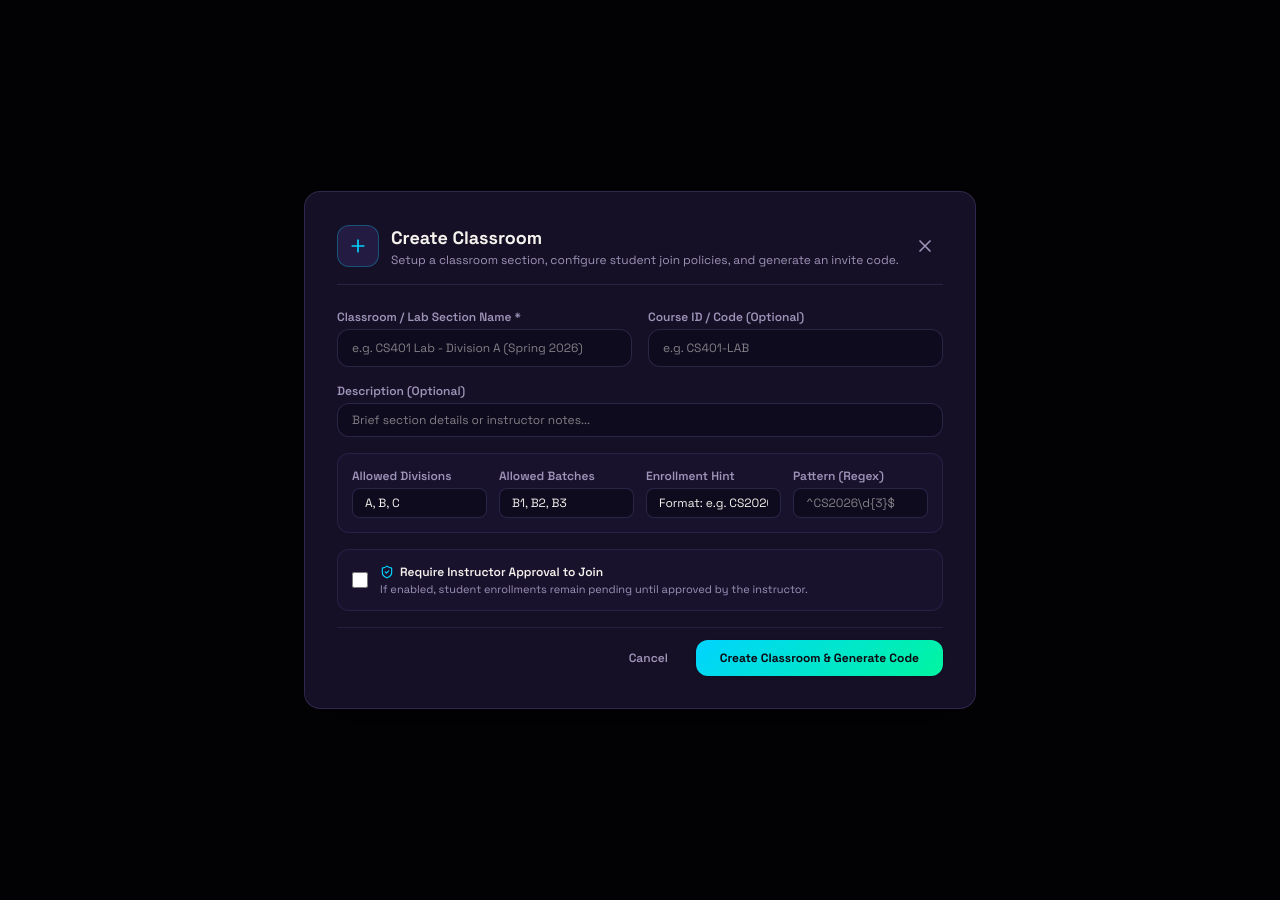
it: Simplified Classroom & Assignment Flow › Part 1: CreateClassroomModal Simplification › submits clean classroom payload and displays 6-char join code
// Fill in classroom name
Type "CS401 Lab Div A" into the field with placeholder "e.g. CS401 Lab - Division A (Spring 2026)" at (484, 348), box [337,329,632,367]
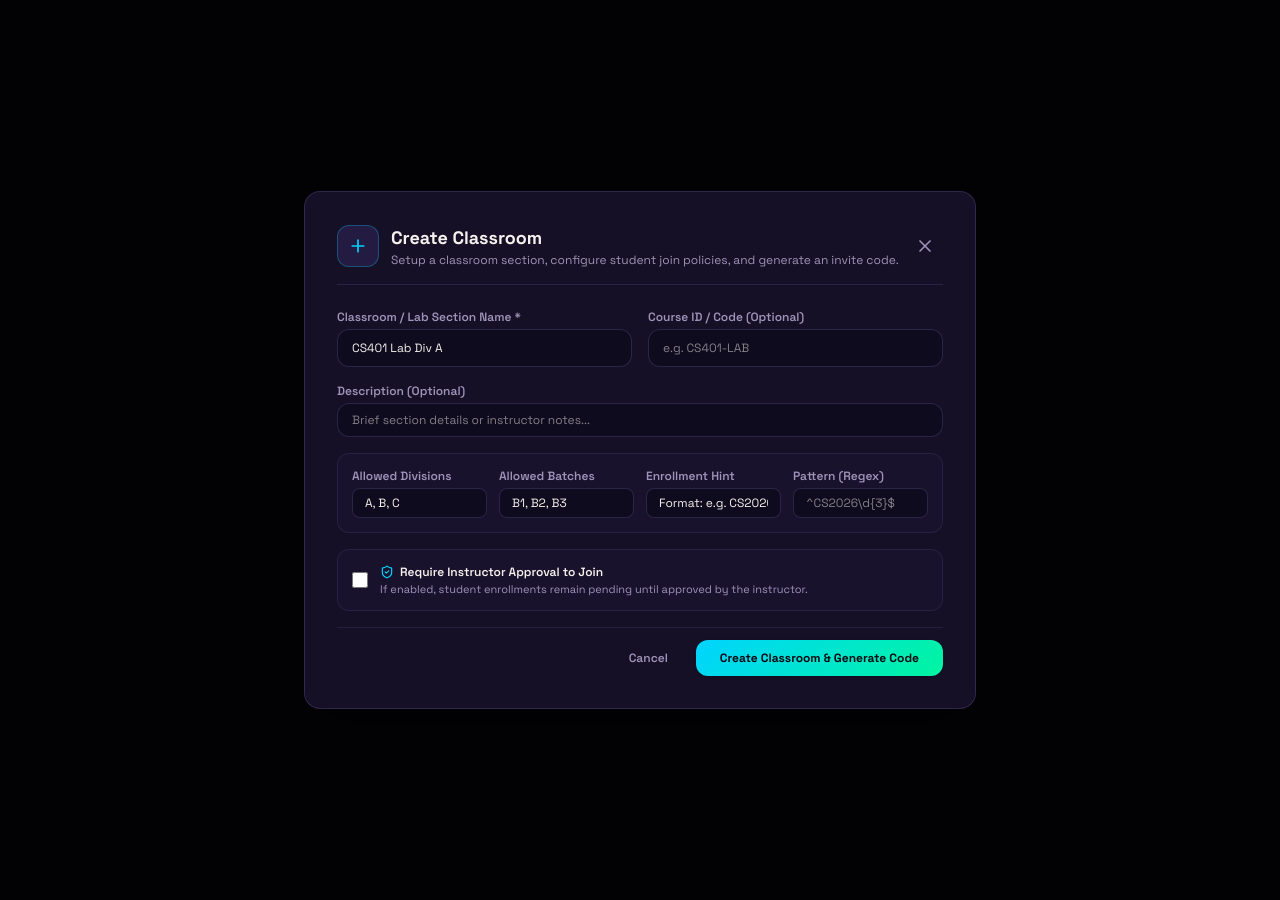
// Click Create
Click the button "Create Classroom & Generate Code" at (819, 658), box [696,640,943,676]
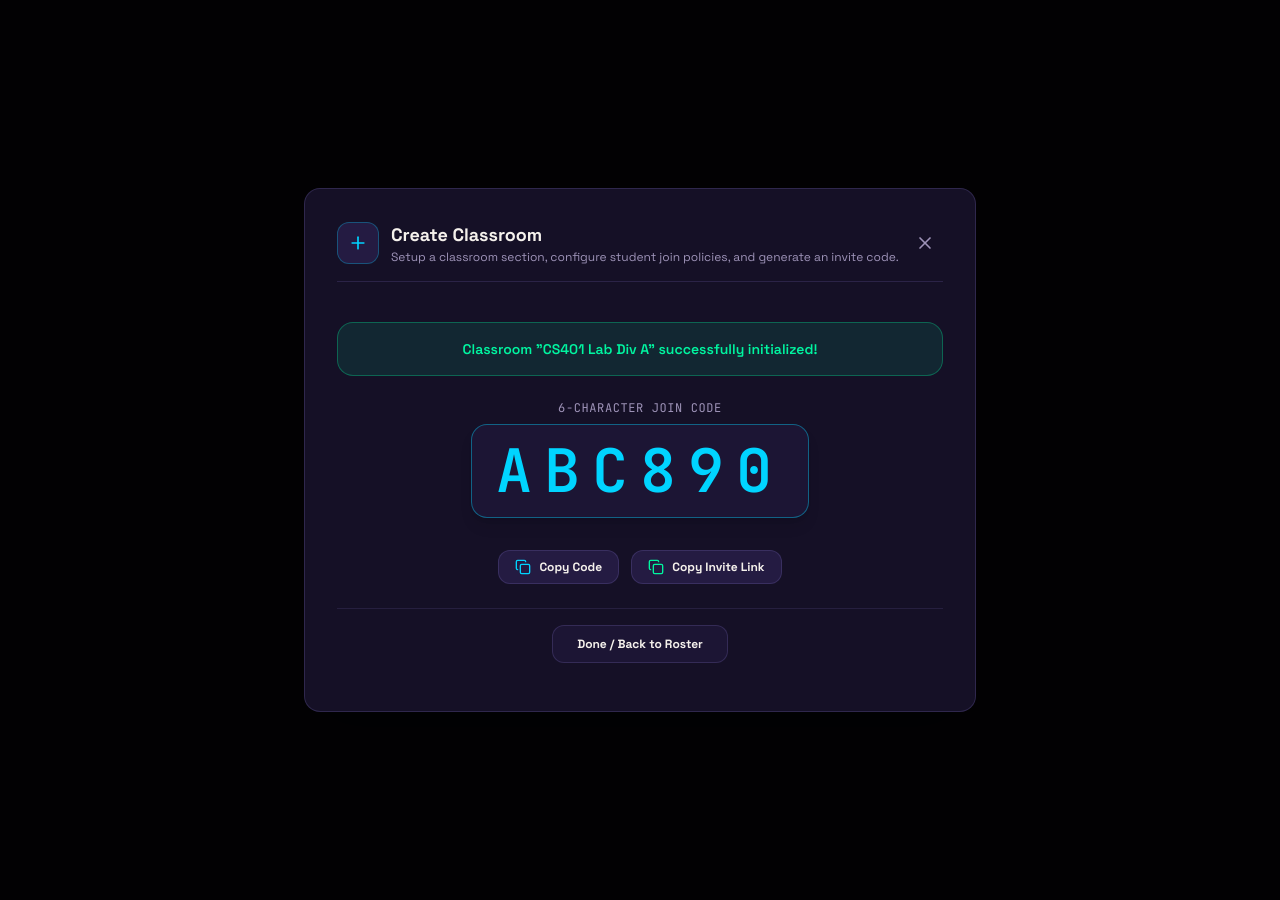
Check: the text with test id "created-join-code" reads "ABC890", box [496,431,784,510]
